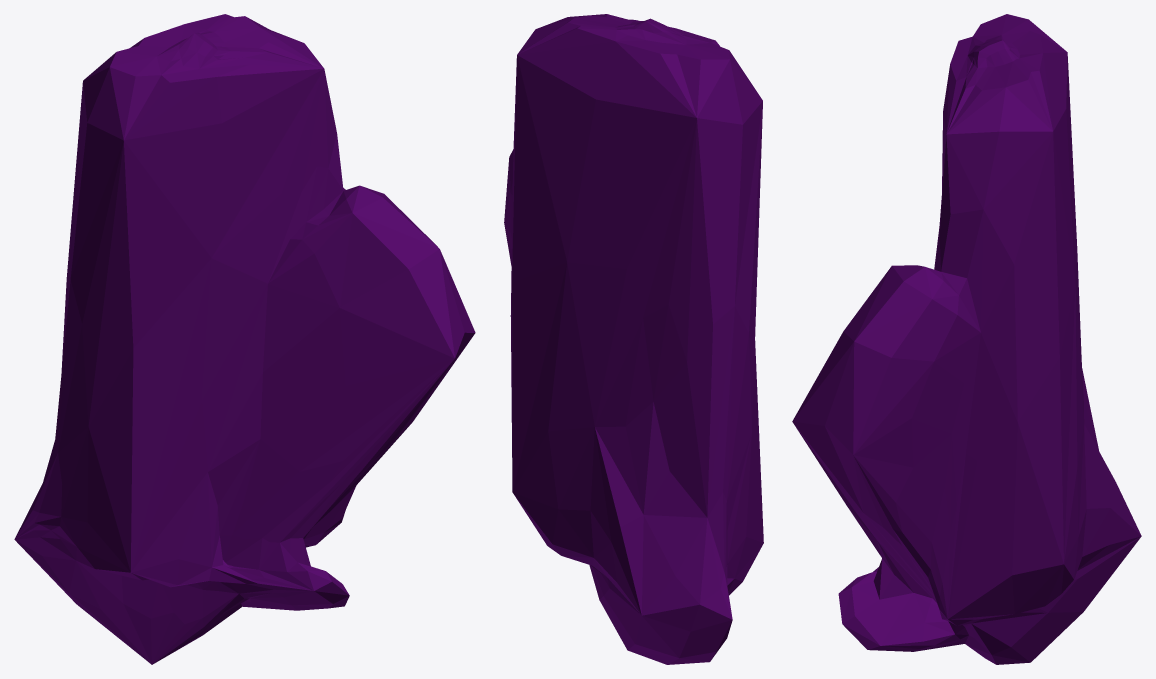
3 renders of one model, left to right at view 1: azimuth 30°, elevation 25°; view 2: azimuth 150°, elevation 25°; view 3: azimuth 270°, elevation 25°, orthographic. The views are drawn at different scales.
Parts seen in each view (by area): view 1: 017_Cube.080; view 2: 017_Cube.080; view 3: 017_Cube.080.
Boxes of the visible parts, x1,y1,x2,y2 form: 017_Cube.080: [14, 14, 475, 664]; 017_Cube.080: [504, 14, 763, 664]; 017_Cube.080: [792, 14, 1141, 664].
Size of the model in its own units: 8.68 by 14.89 by 7.43.
